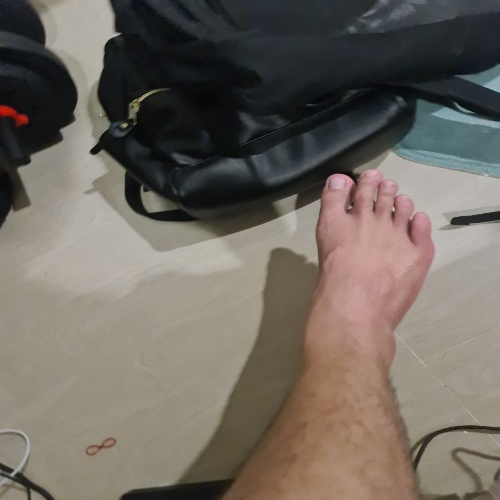3: (322, 174, 355, 215)
Top_Foot: (320, 166, 433, 392)
